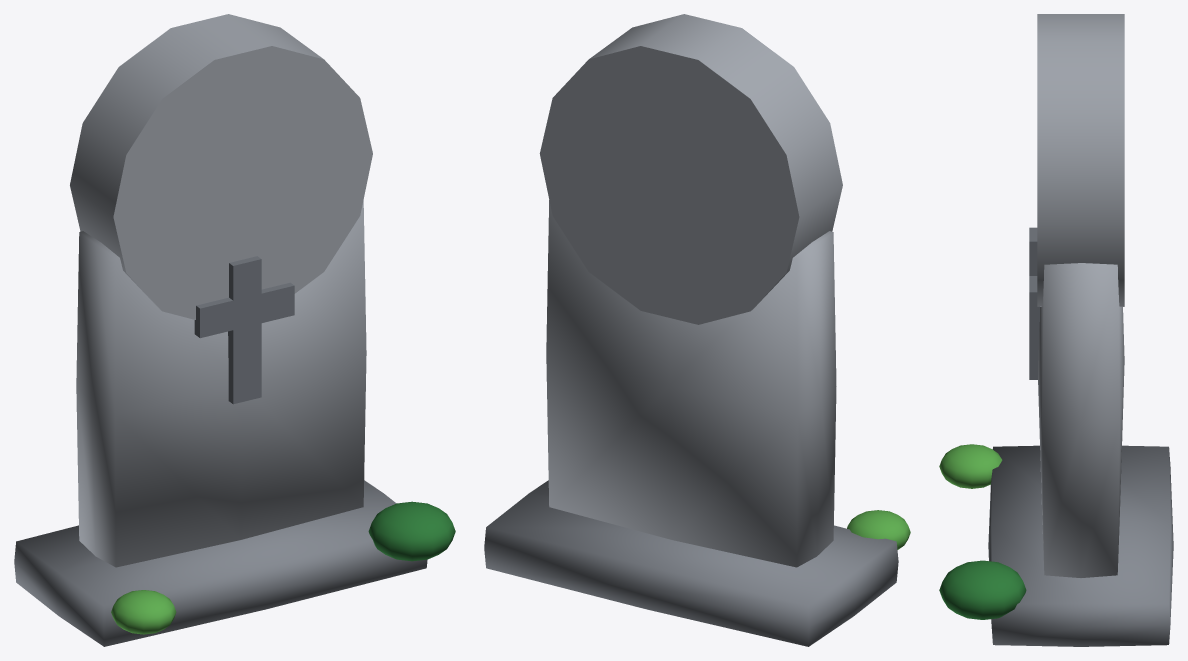
Rendered from gravestone.glb.
3 renders of one model, left to right at view 1: azimuth 30°, elevation 25°; view 2: azimuth 150°, elevation 25°; view 3: azimuth 270°, elevation 25°, orthographic.
Visible parts, largest first — view 1: root; view 2: root; view 3: root.
Part boxes in pixels (left/top/right/bottom): root: left=14, top=14, right=455, bottom=646; root: left=484, top=14, right=910, bottom=646; root: left=939, top=14, right=1173, bottom=646.
Size of the model in its own units: 0.73 by 1.1 by 0.43.
